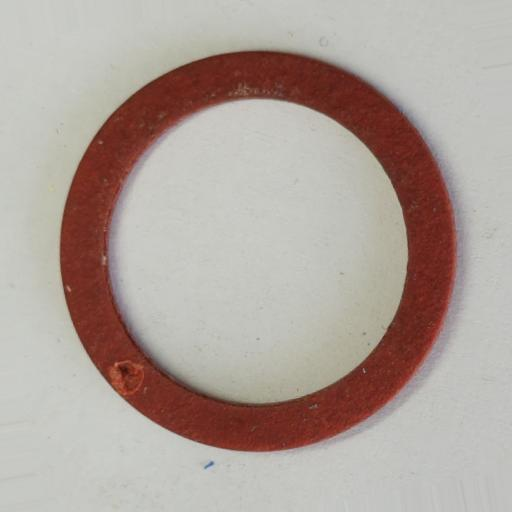defect: (109, 359, 147, 396)
